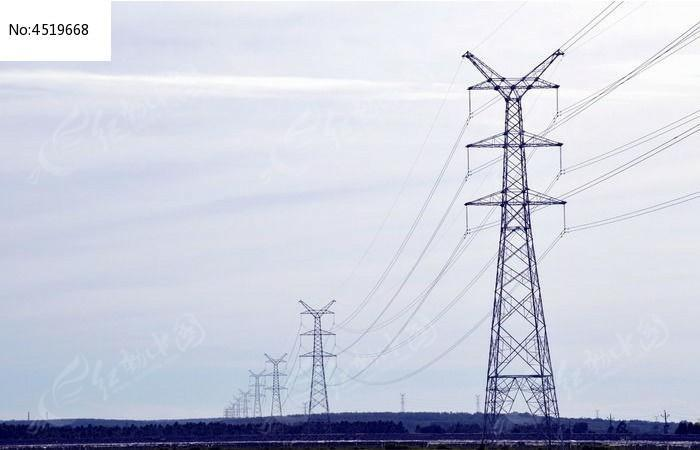power_tower: (456, 46, 568, 447), (297, 293, 343, 431), (261, 347, 293, 419)
